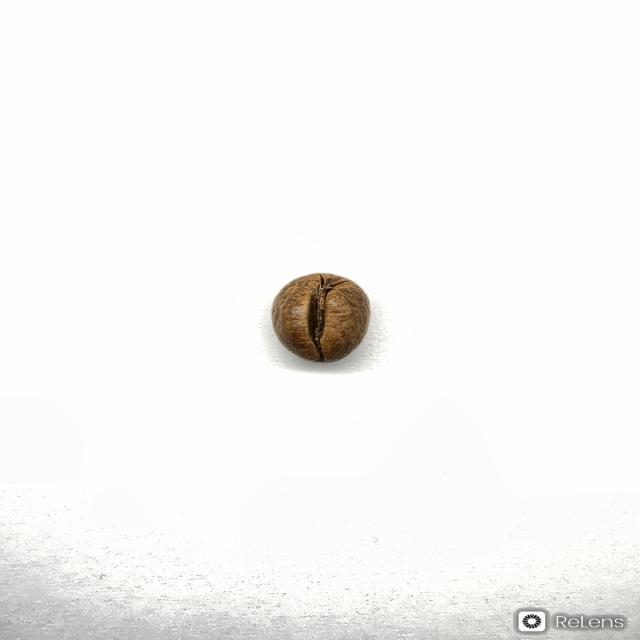Good bean: (270, 272, 371, 363)
